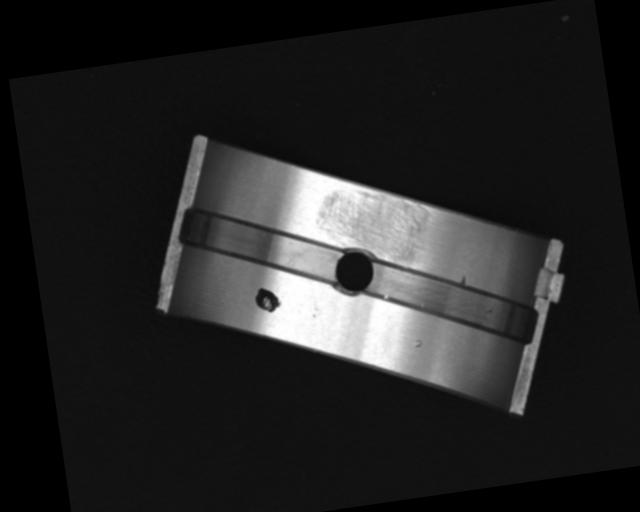blot: (252, 283, 282, 314)
bruise: (456, 274, 469, 289), (412, 337, 423, 350)
gap: (355, 235, 535, 368), (174, 176, 350, 308)
hole: (327, 243, 384, 301)
scratch: (308, 176, 436, 280)
